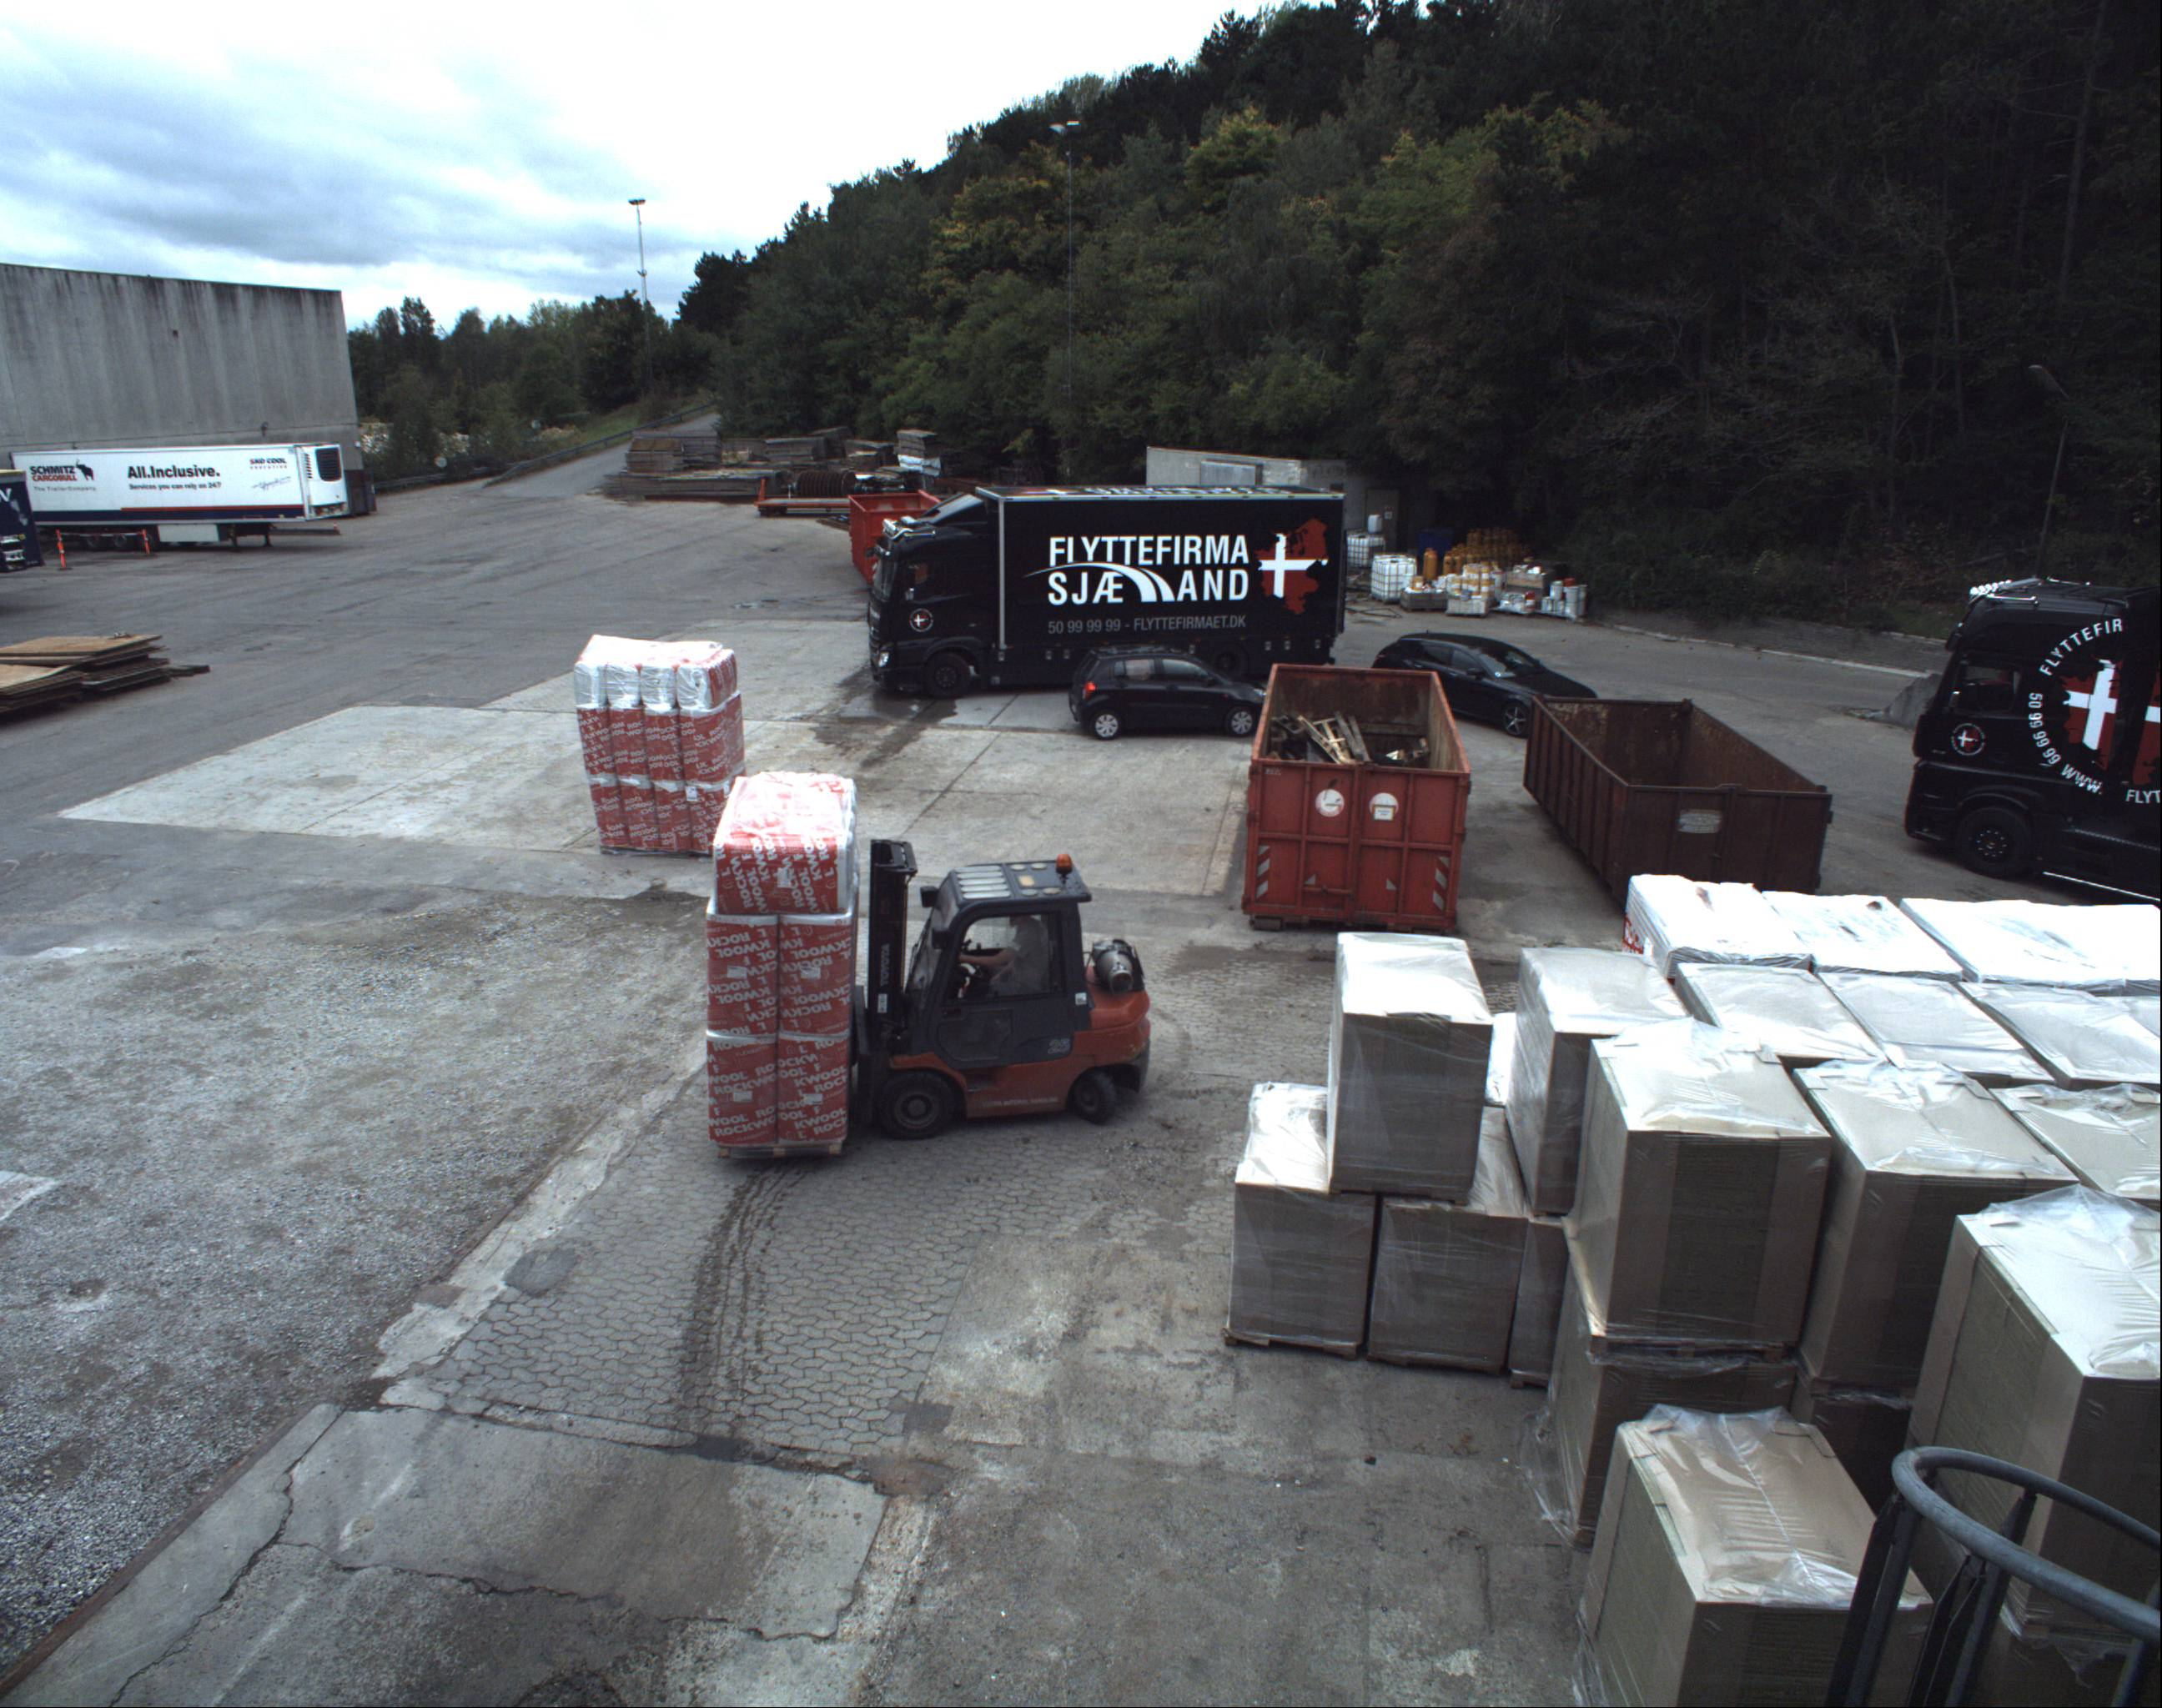rockwool_batts: (704, 757, 849, 1146), (563, 606, 737, 848)
